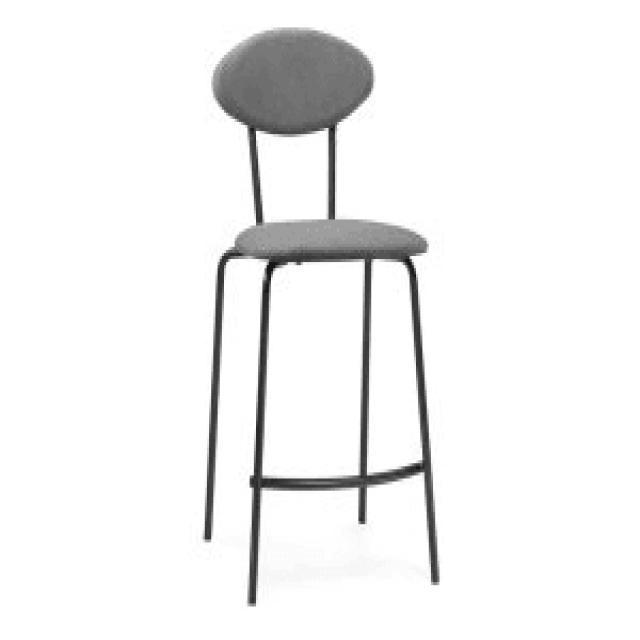chair: (200, 22, 442, 606)
